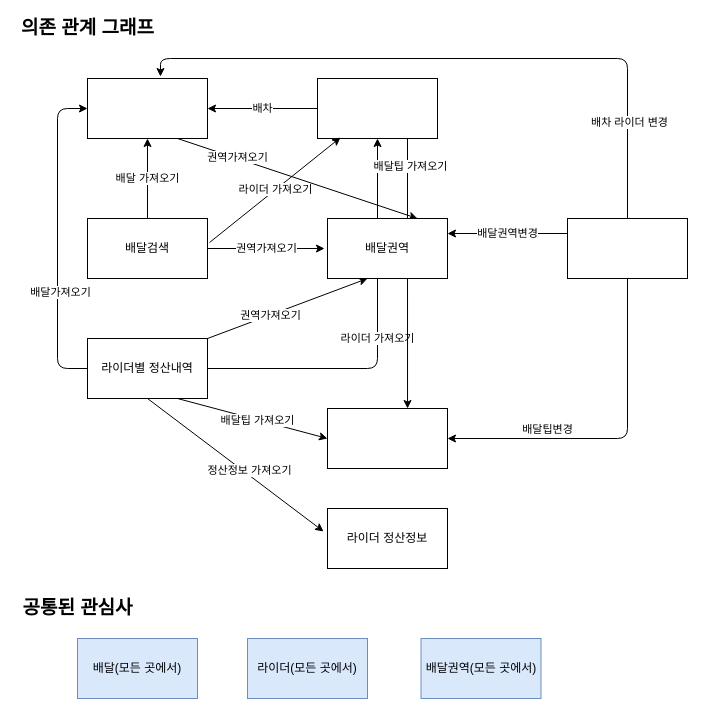
Some shapes in this 705 by 716 pixel diagram are drawn without their labels. Each missing label, with the box of its shape:
라이더: (316, 78, 438, 138)
배달: (86, 78, 208, 138)
배달 운영 관리: (566, 218, 688, 278)
배달팁: (326, 408, 448, 468)
